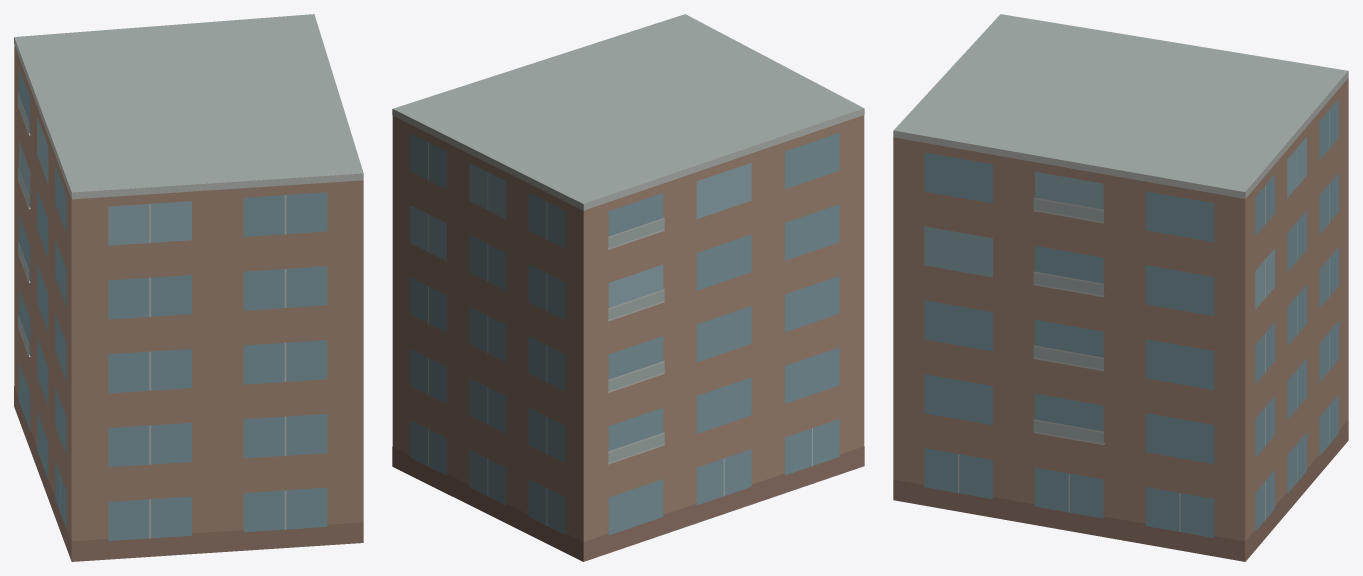
The model's file is survey-upis-33046665.glb.
The picture shows the model from 3 angles, left to right: view 1: azimuth 30°, elevation 25°; view 2: azimuth 150°, elevation 25°; view 3: azimuth 270°, elevation 25°; orthographic projection. The views are drawn at different scales.
Visible parts, largest first — view 1: survey-upis-33046665.tmp; view 2: survey-upis-33046665.tmp; view 3: survey-upis-33046665.tmp.
Part boxes in pixels (bbox=[...]): survey-upis-33046665.tmp: bbox=[14, 14, 363, 561]; survey-upis-33046665.tmp: bbox=[392, 14, 864, 561]; survey-upis-33046665.tmp: bbox=[893, 14, 1348, 561].
Bounding box in the file's own units: 13.71 × 13.25 × 14.79.
